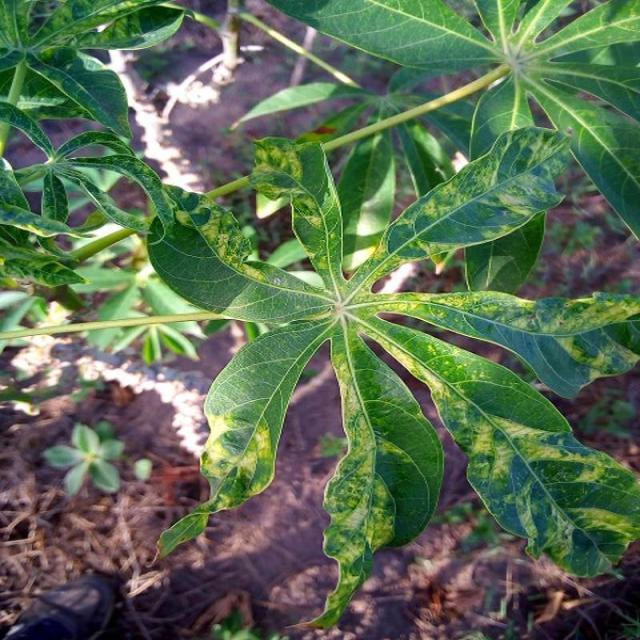Mosaico: (236, 171, 616, 566), (4, 107, 167, 254), (0, 0, 181, 91)
